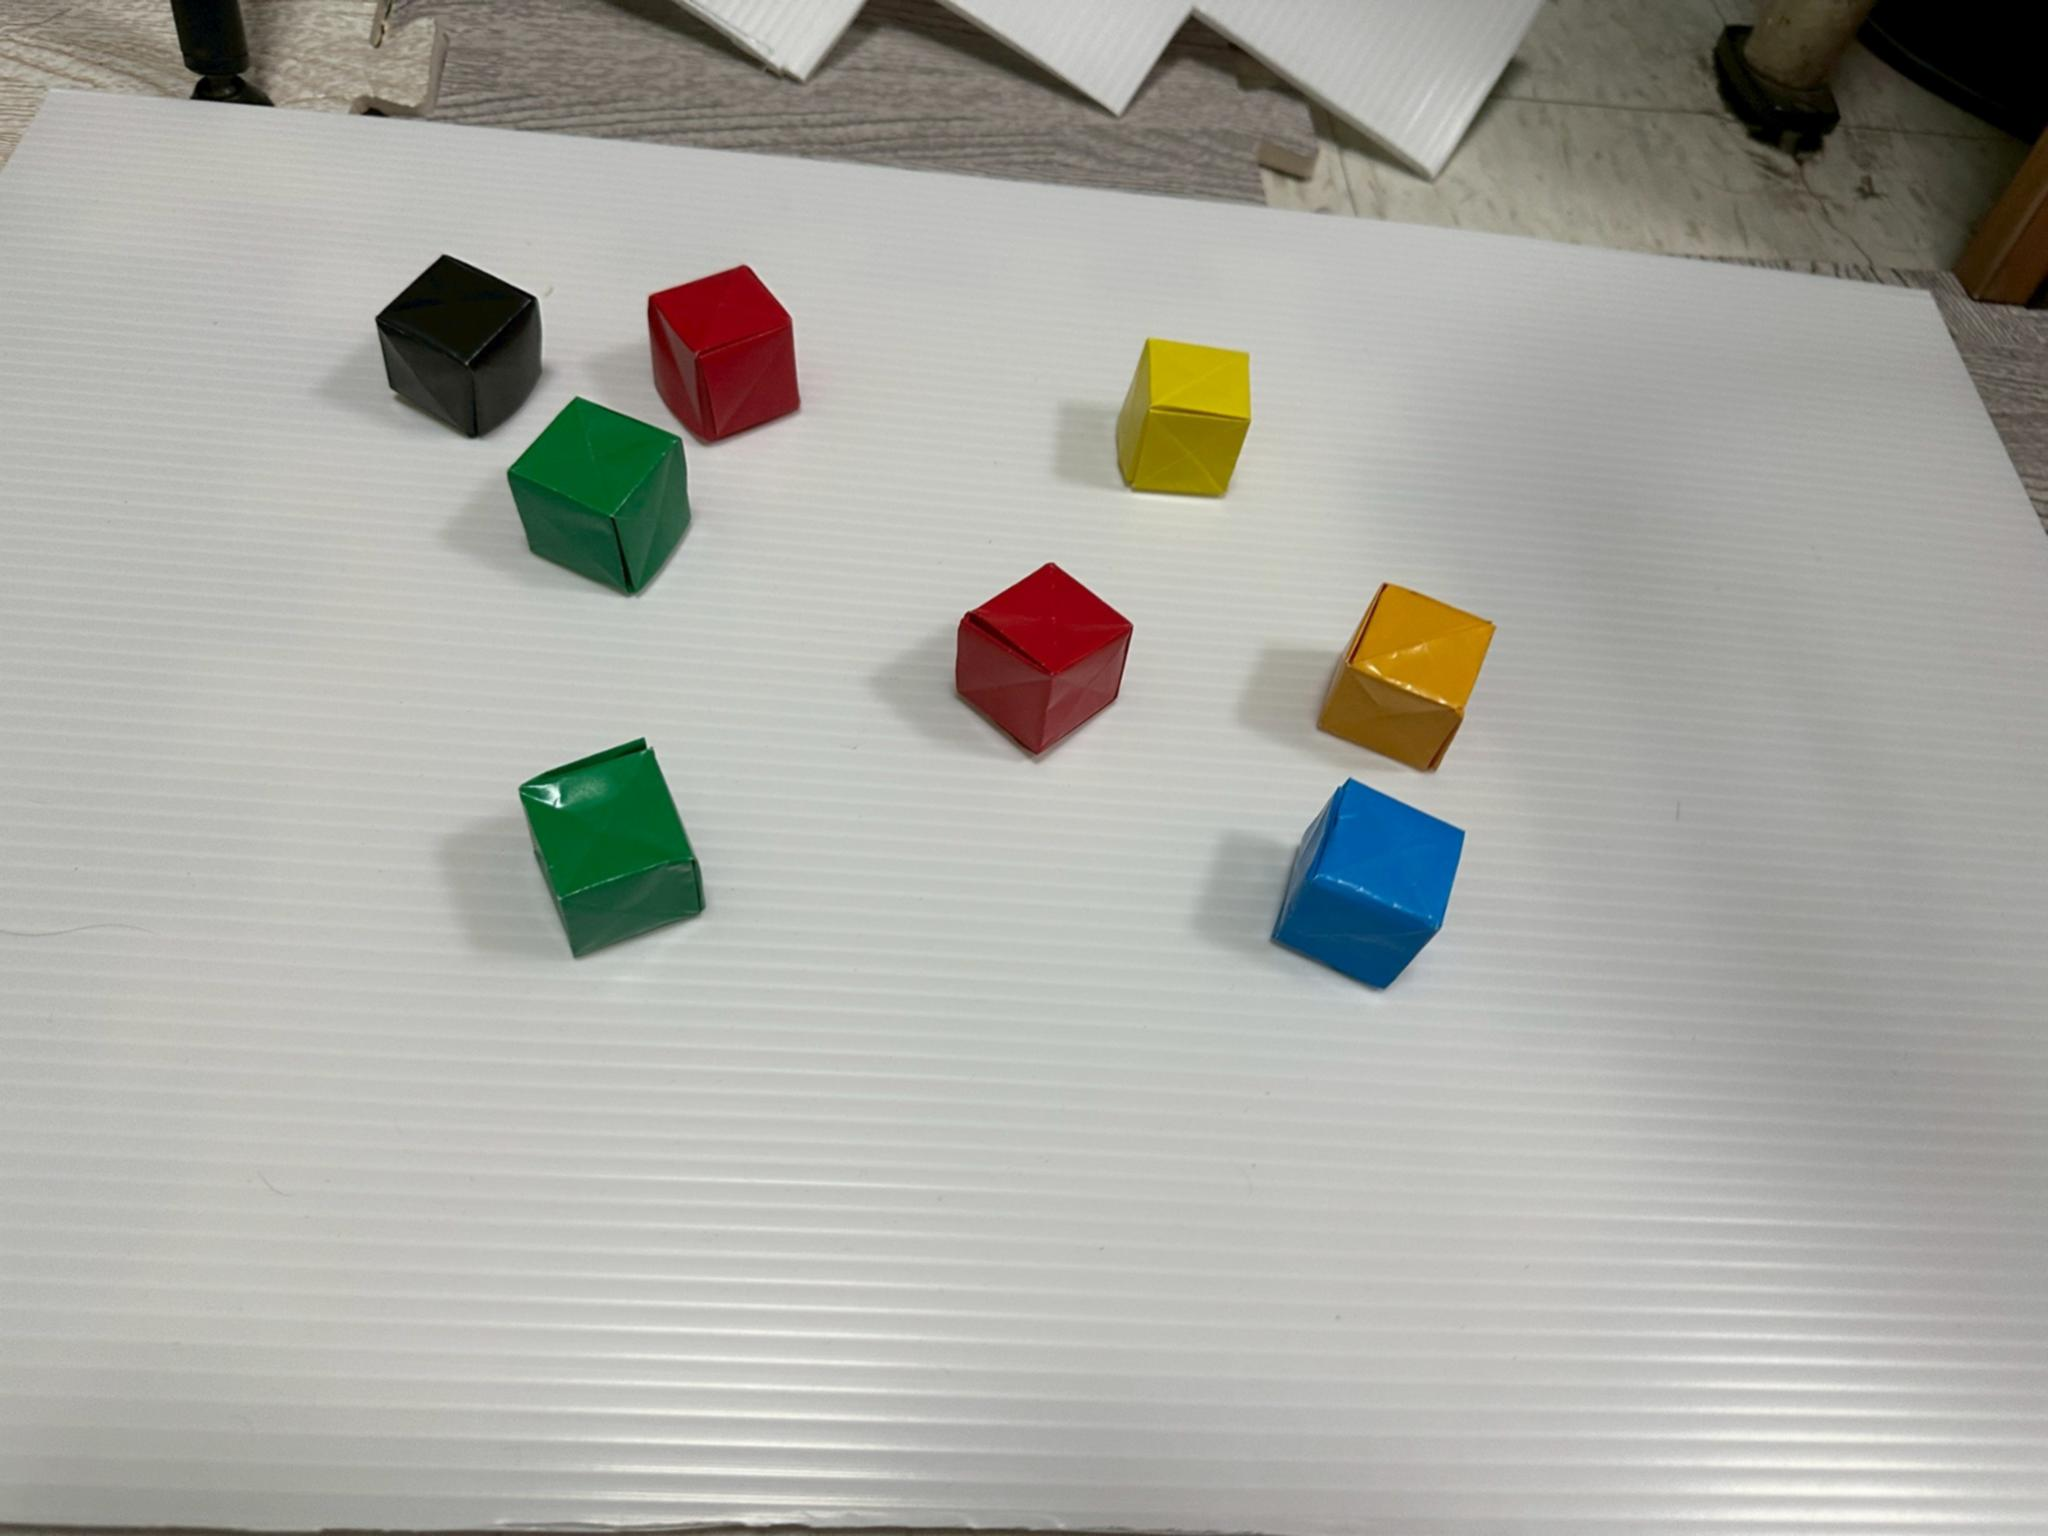cube: (1272, 779, 1463, 989), (521, 741, 705, 957), (508, 397, 690, 594), (956, 566, 1132, 755), (1319, 584, 1493, 770), (377, 255, 542, 436), (650, 266, 798, 440), (1116, 339, 1250, 495)
